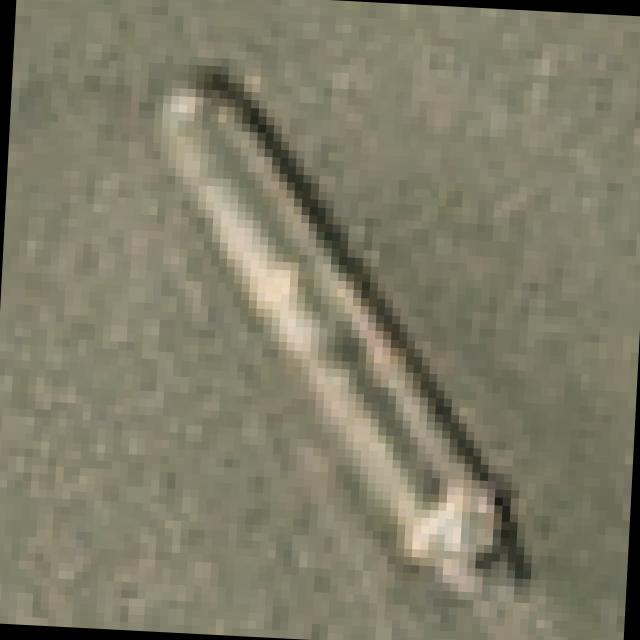ship: (104, 52, 576, 622)
